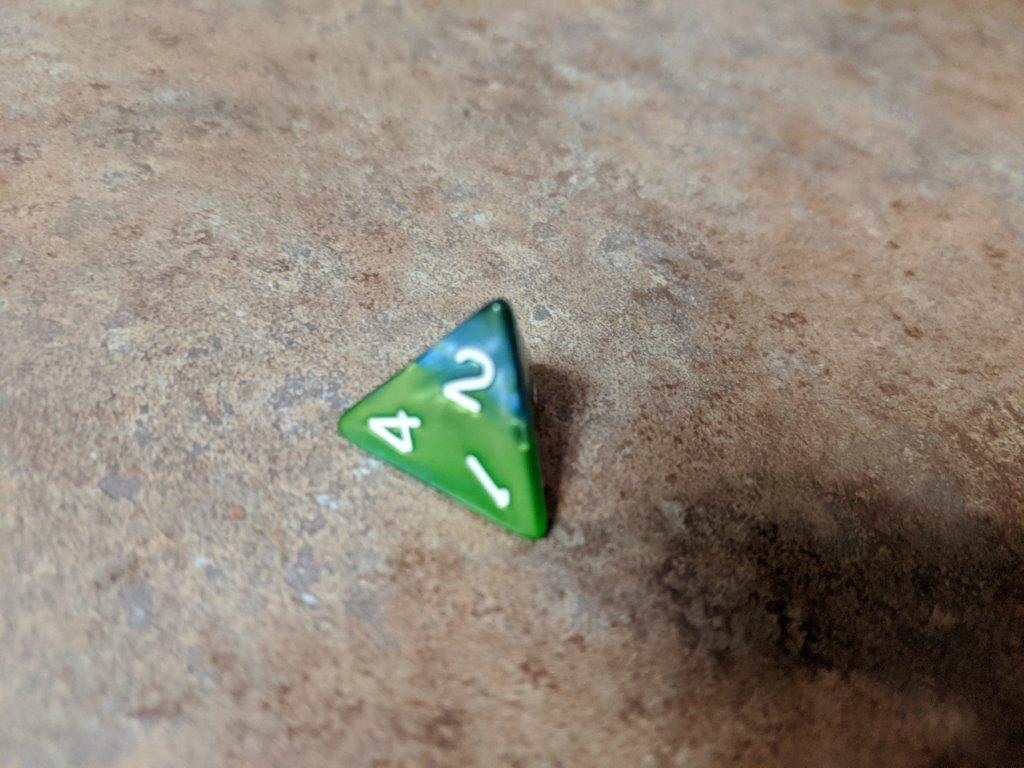d4-2: (332, 283, 562, 544)
